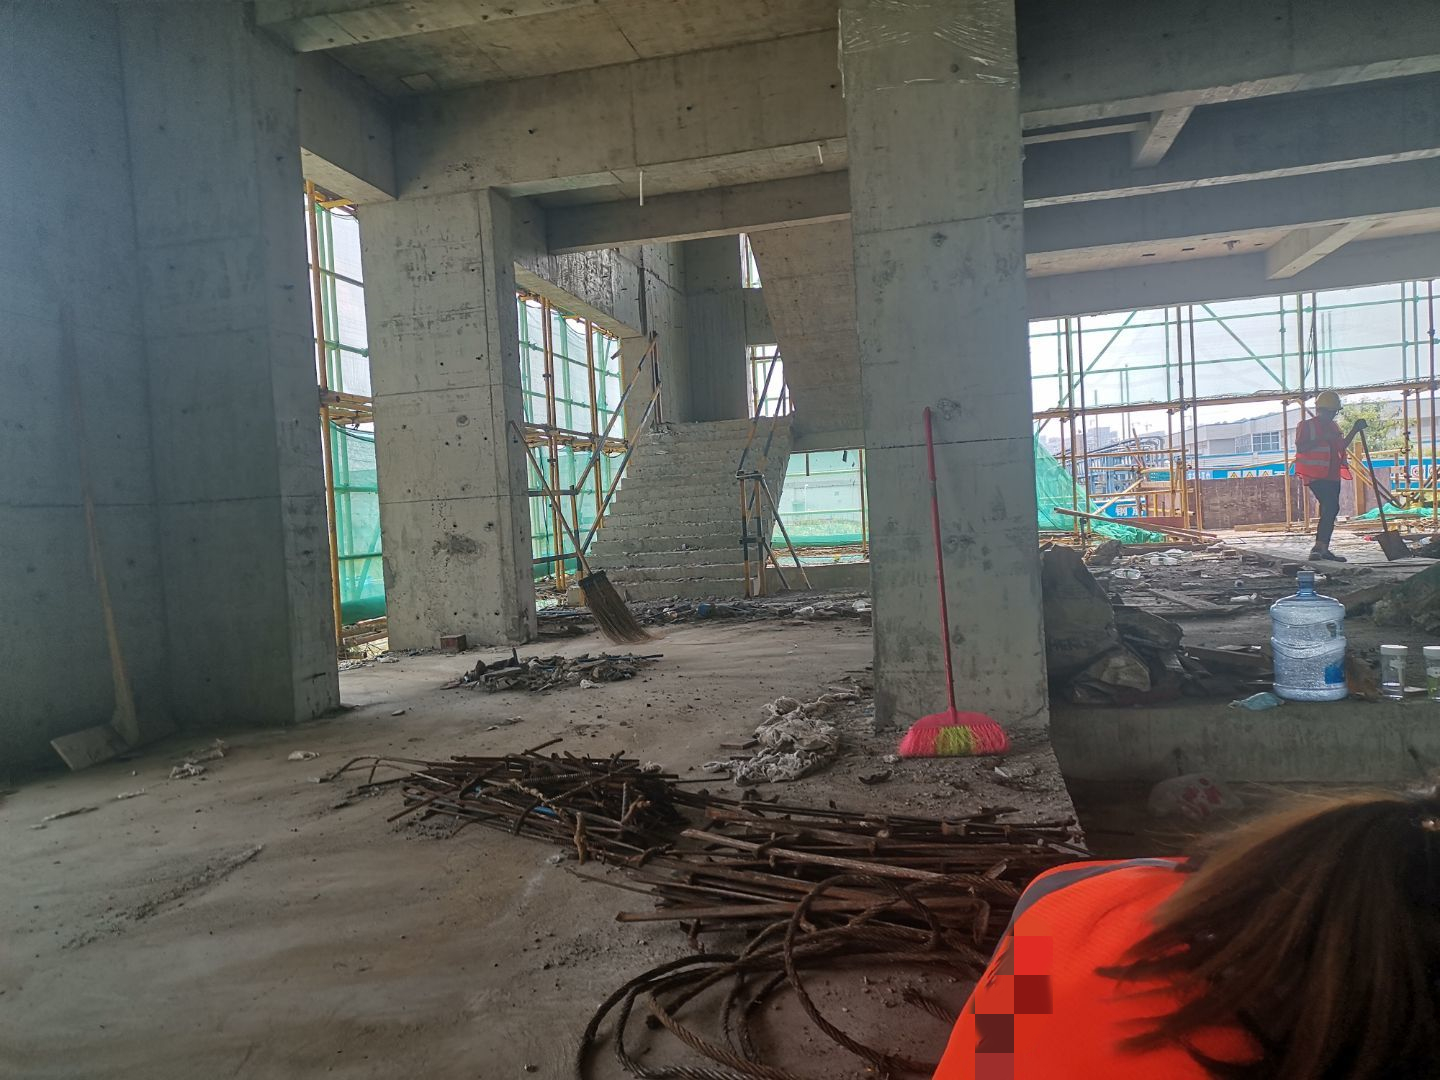helmet: (1317, 389, 1342, 410)
person: (903, 777, 1440, 1070), (1290, 389, 1354, 569)
vest: (953, 859, 1224, 1080), (1298, 418, 1346, 475)
